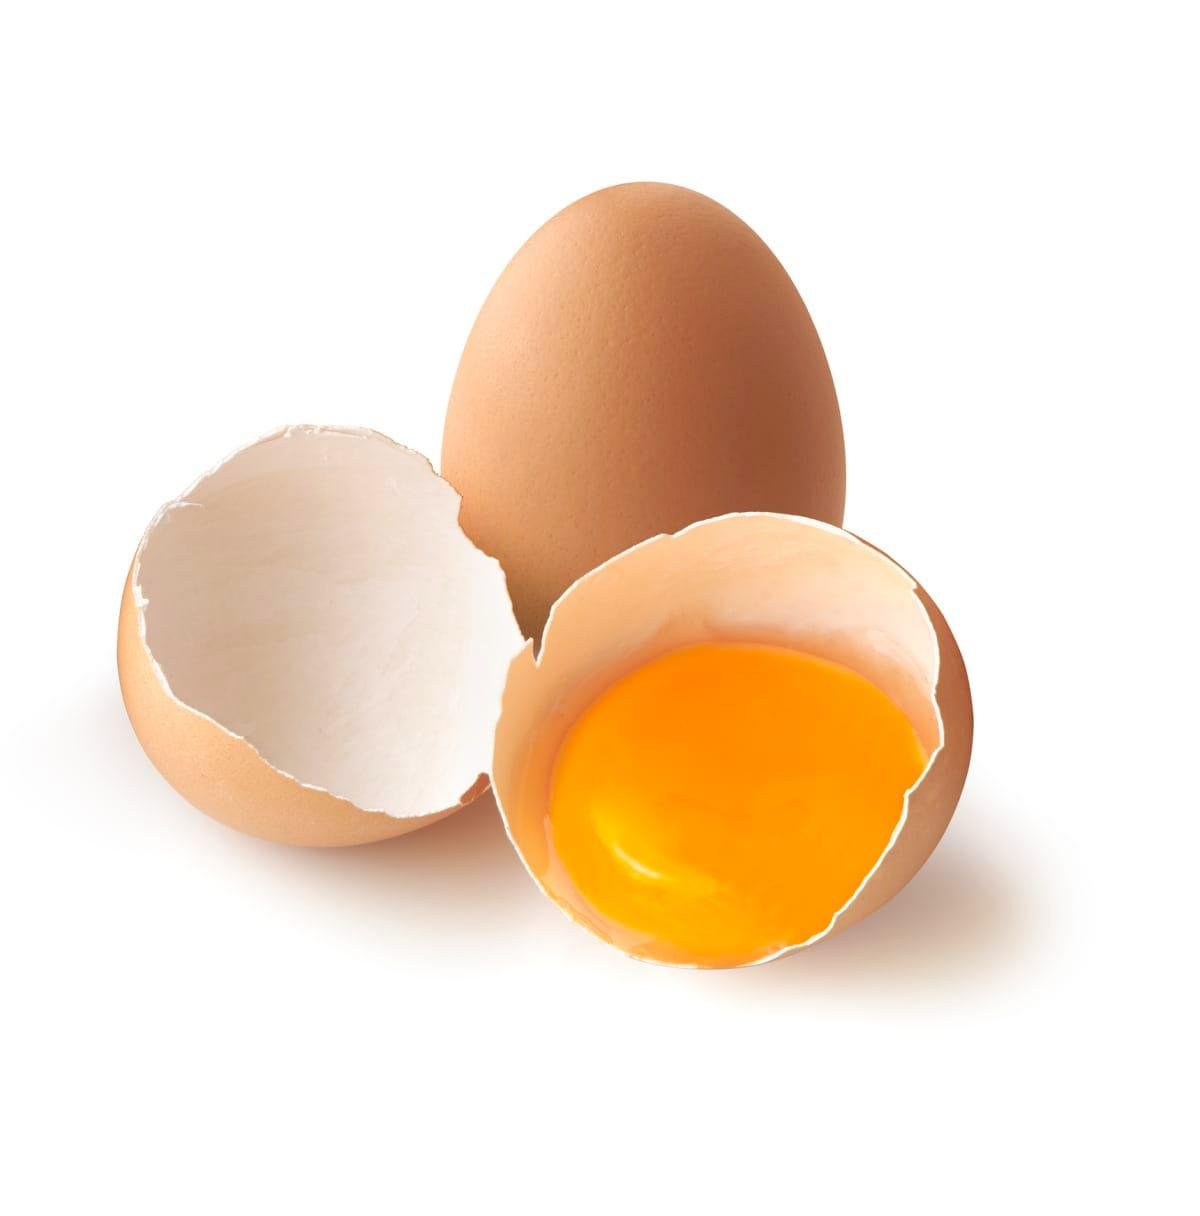egg: (435, 169, 852, 674)
